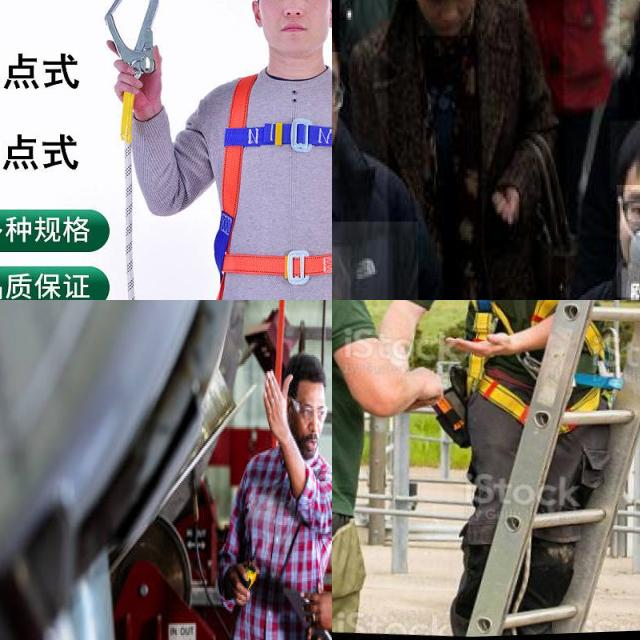Harness: (207, 68, 332, 300), (466, 300, 617, 443)
No_Ear-Protection: (286, 396, 294, 420)
No_Glasses: (266, 0, 325, 7)
face_mask: (616, 184, 640, 297)
face_nomask: (416, 0, 475, 38), (287, 401, 322, 460)
glasses: (291, 398, 327, 423), (332, 69, 346, 122), (624, 192, 640, 234)
hand_noglove: (264, 372, 292, 441), (225, 562, 251, 606), (310, 591, 332, 631)
head_nohelmet: (610, 120, 640, 189), (285, 353, 325, 398)
person: (387, 0, 565, 300), (332, 0, 474, 300), (552, 107, 640, 300)
